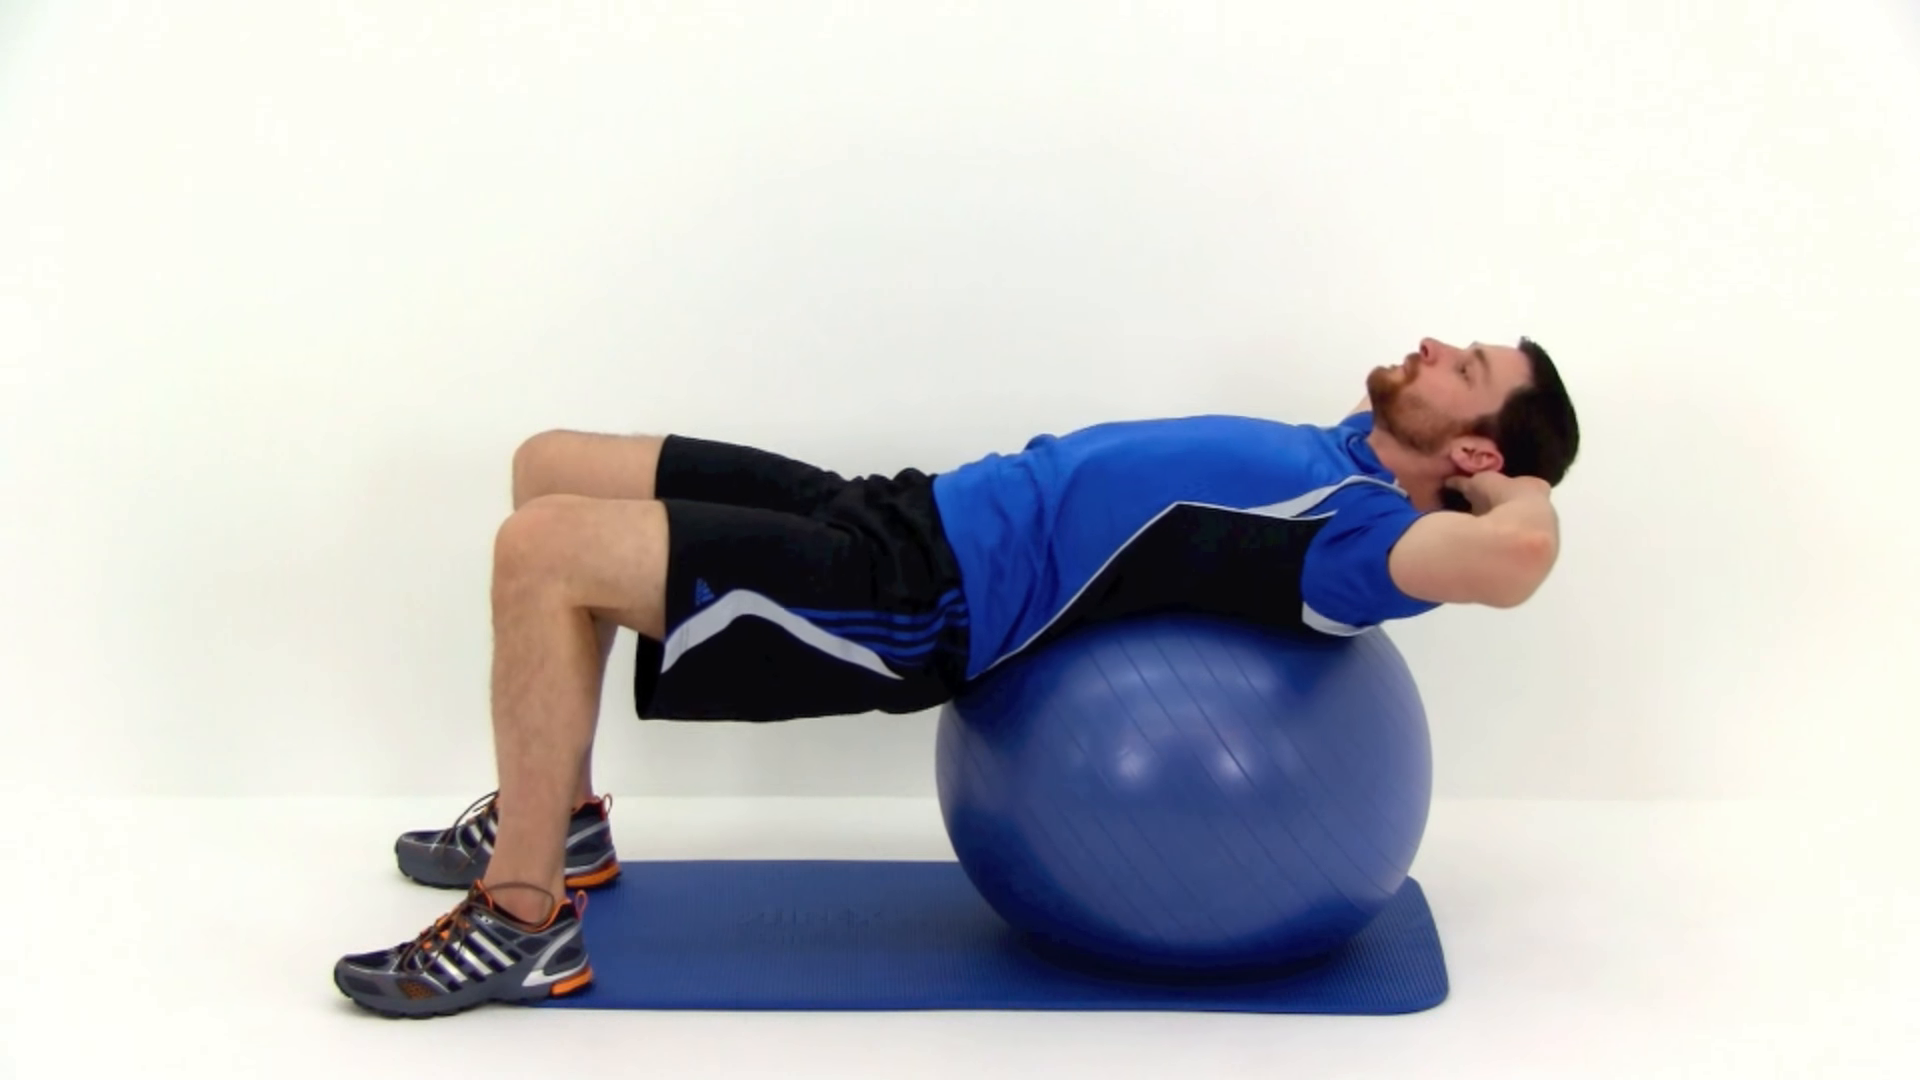yogaball: (922, 556, 1457, 984)
